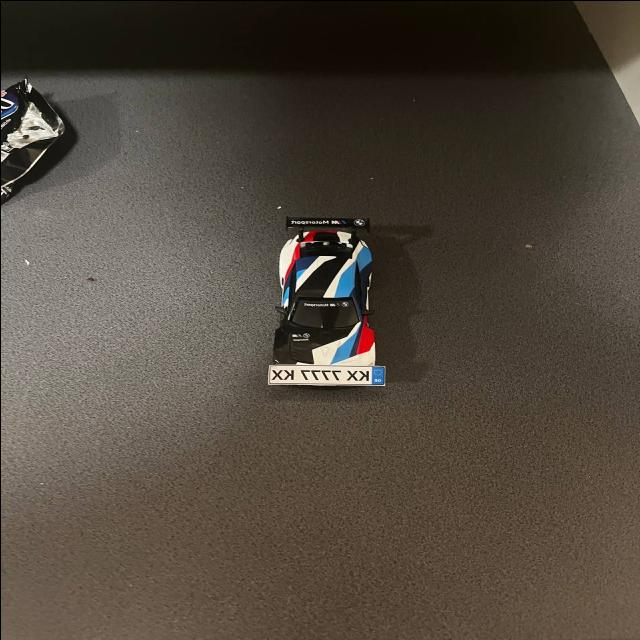cars: (259, 209, 380, 397)
